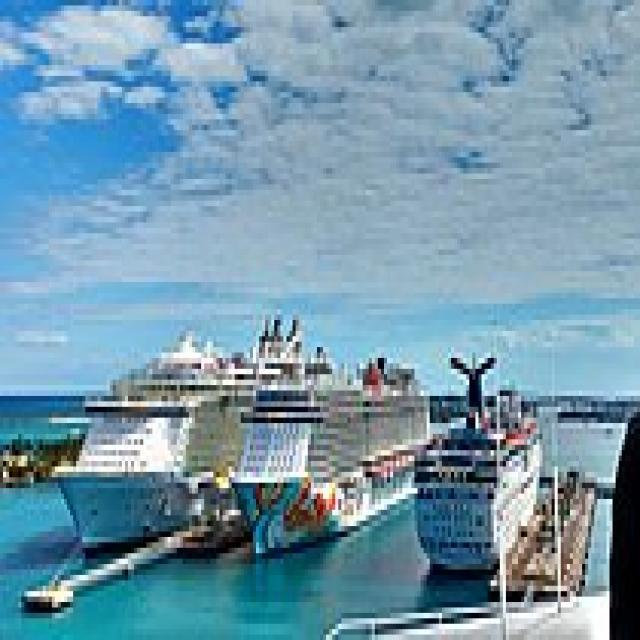Ship: (50, 321, 267, 571), (233, 359, 447, 570), (413, 354, 553, 582)
